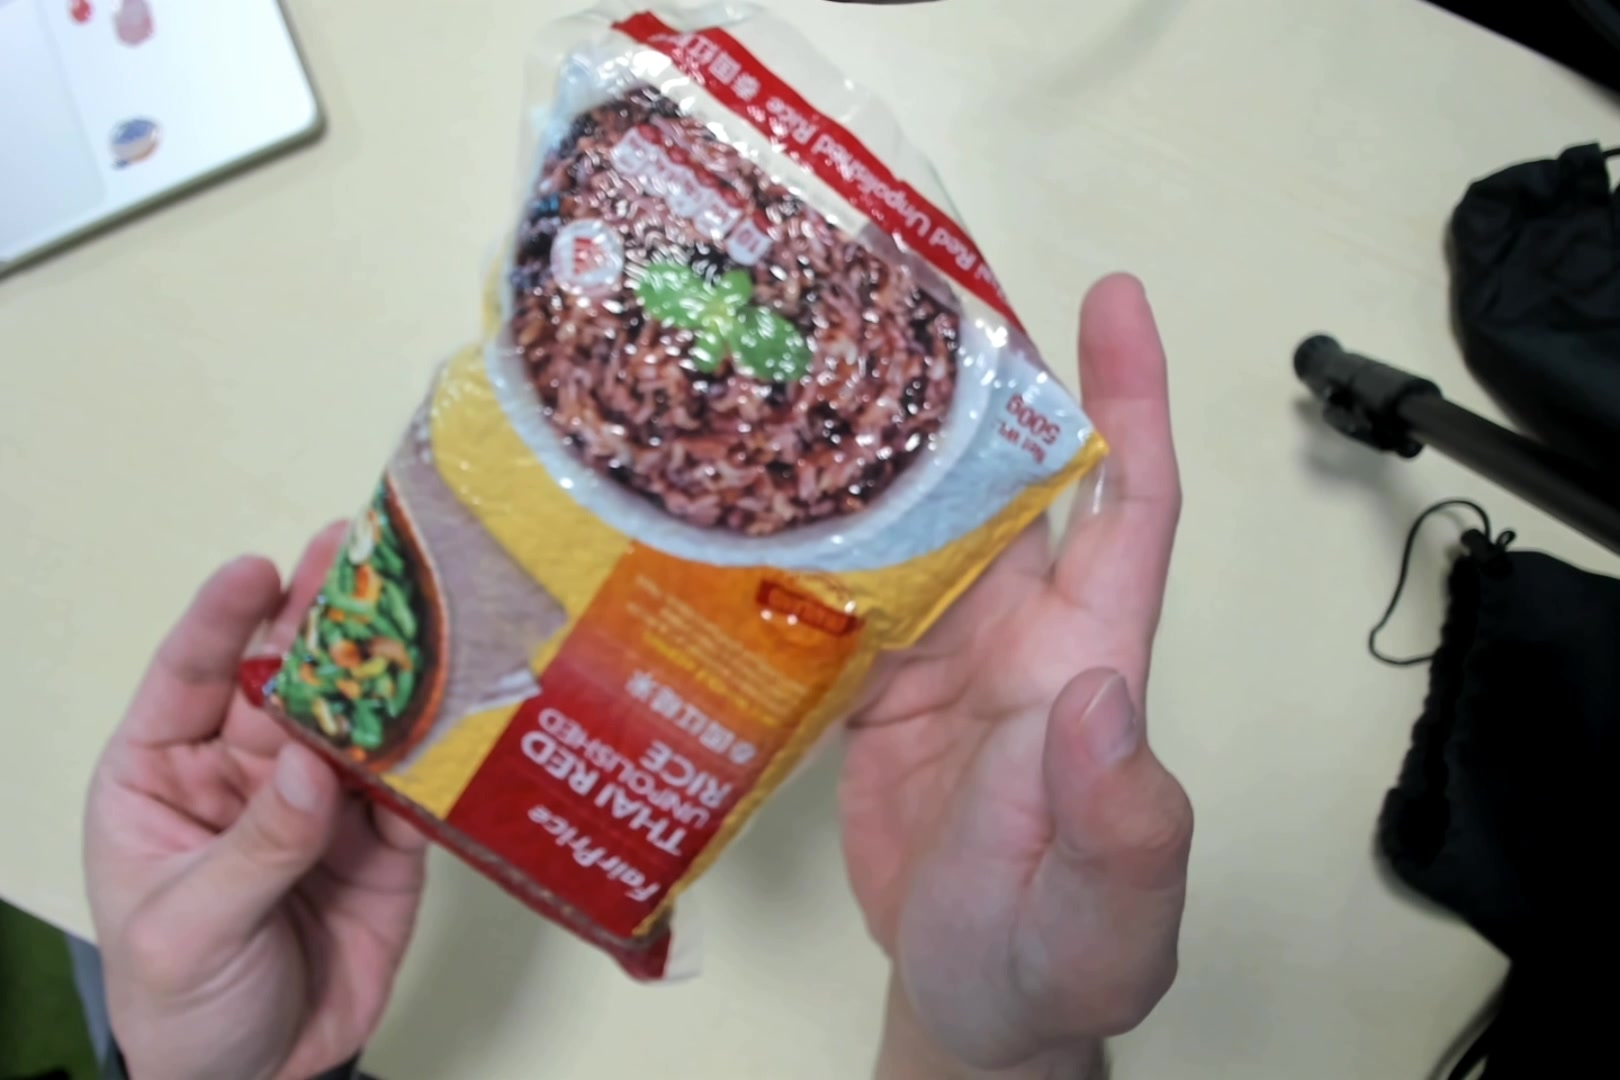Rice(BrownOthers)_500-599g_NonHalal_Healthy: (256, 2, 1111, 978)
